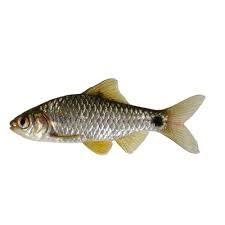Black Spotted Barb: (9, 79, 202, 158)
